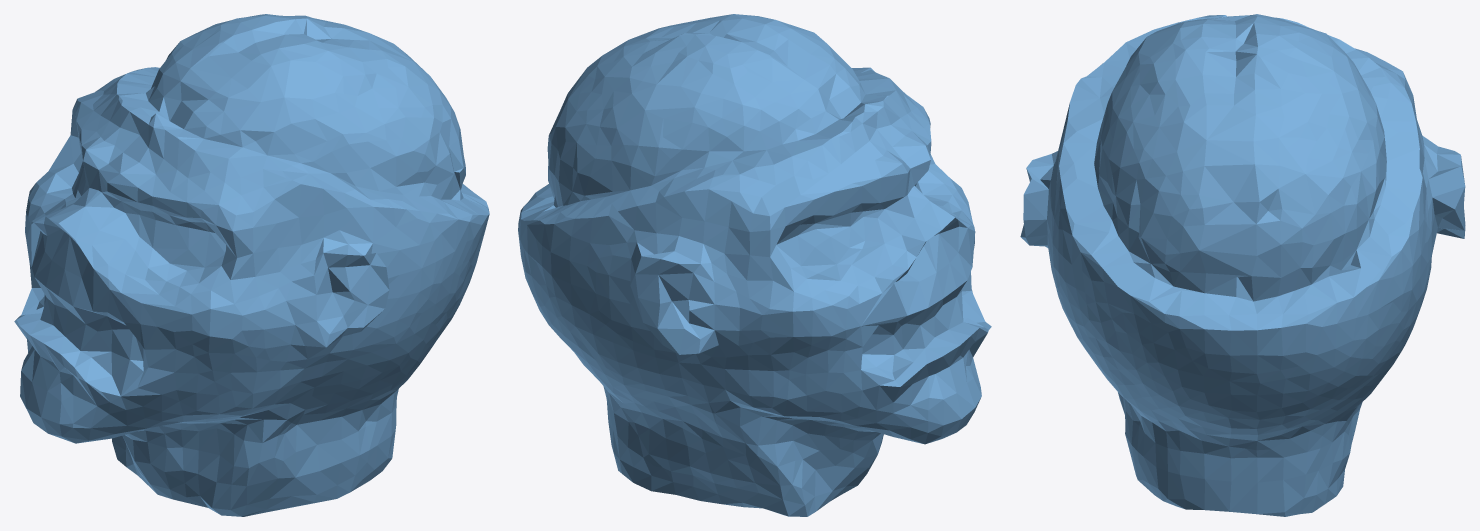
The model's file is zombie_3.glb.
The picture shows the model from 3 angles, left to right: view 1: azimuth 30°, elevation 25°; view 2: azimuth 150°, elevation 25°; view 3: azimuth 270°, elevation 25°; orthographic projection. The views are drawn at different scales.
Visible parts, largest first — view 1: world; view 2: world; view 3: world.
Boxes of the visible parts, box(x1,y1,x2,y2) form: world: box(14, 14, 489, 516); world: box(518, 14, 991, 516); world: box(1020, 14, 1465, 516).
Bounding box in the file's own units: 1.21 × 1.18 × 1.06.
